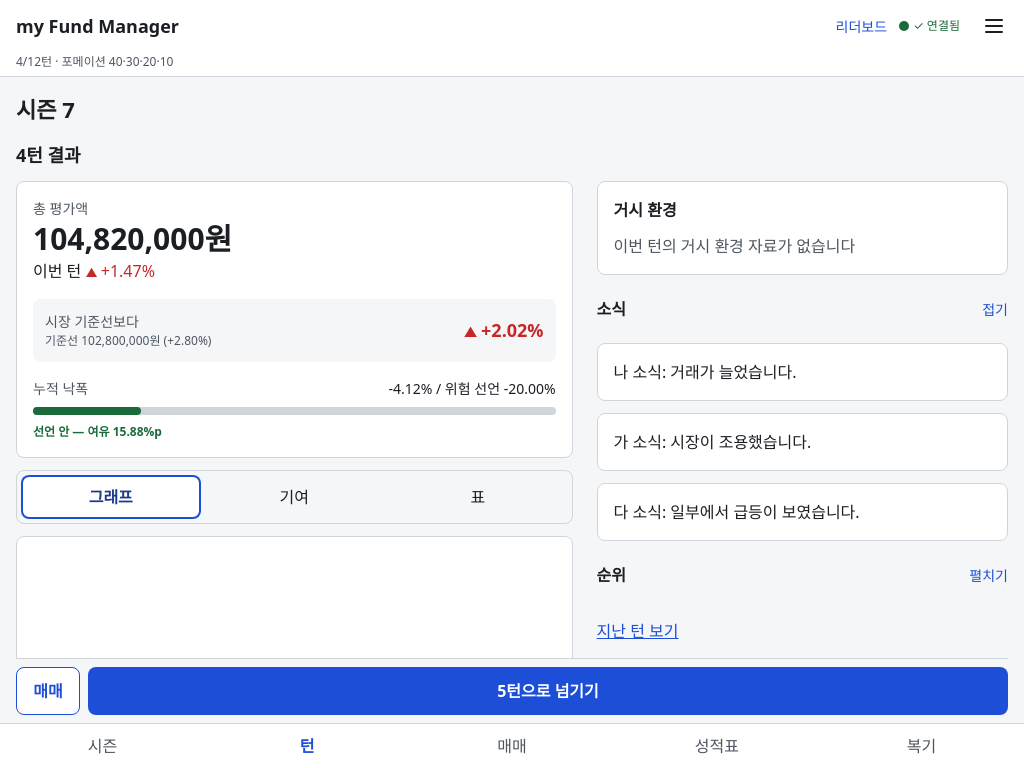
turn screen layout › shows the feed open and the ranking collapsed, and toggles both
Expected: the heading "4턴 결과" is shown, [16, 143, 81, 167]
Click the button "순위 펼치기": (989, 575) [597, 553, 1008, 597]
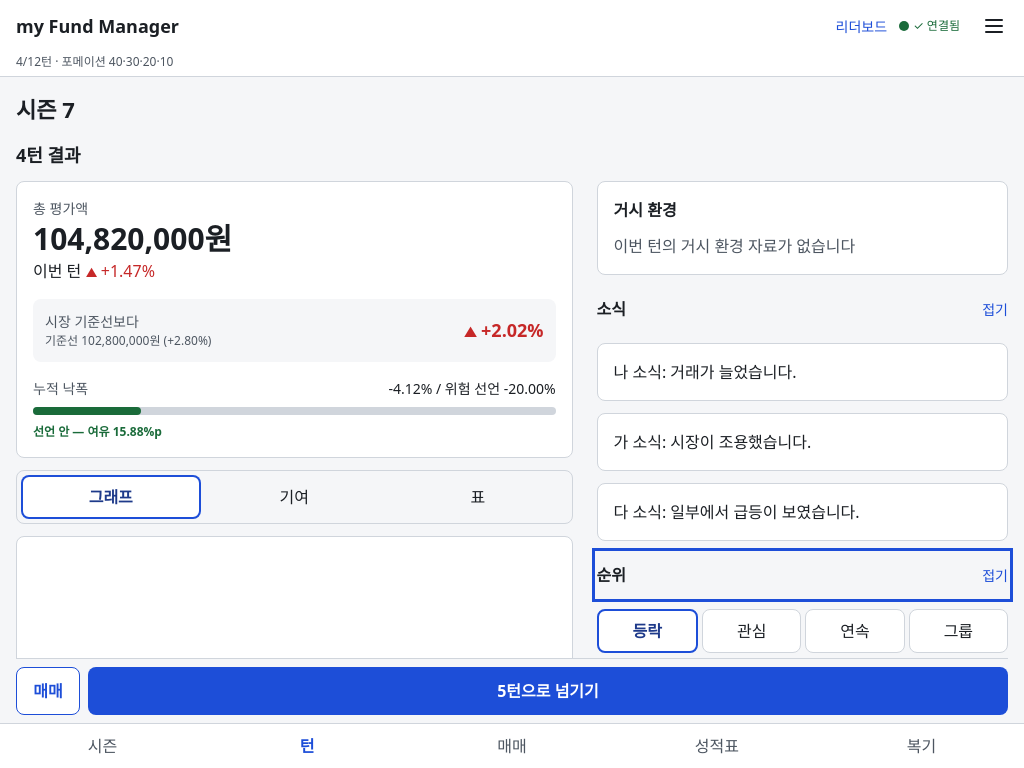
Expected: the button "순위 접기" is expanded
Expected: the element named "순위 종류" is shown, [597, 609, 1008, 653]
Click the button "순위 접기": (611, 575) [597, 553, 1008, 597]
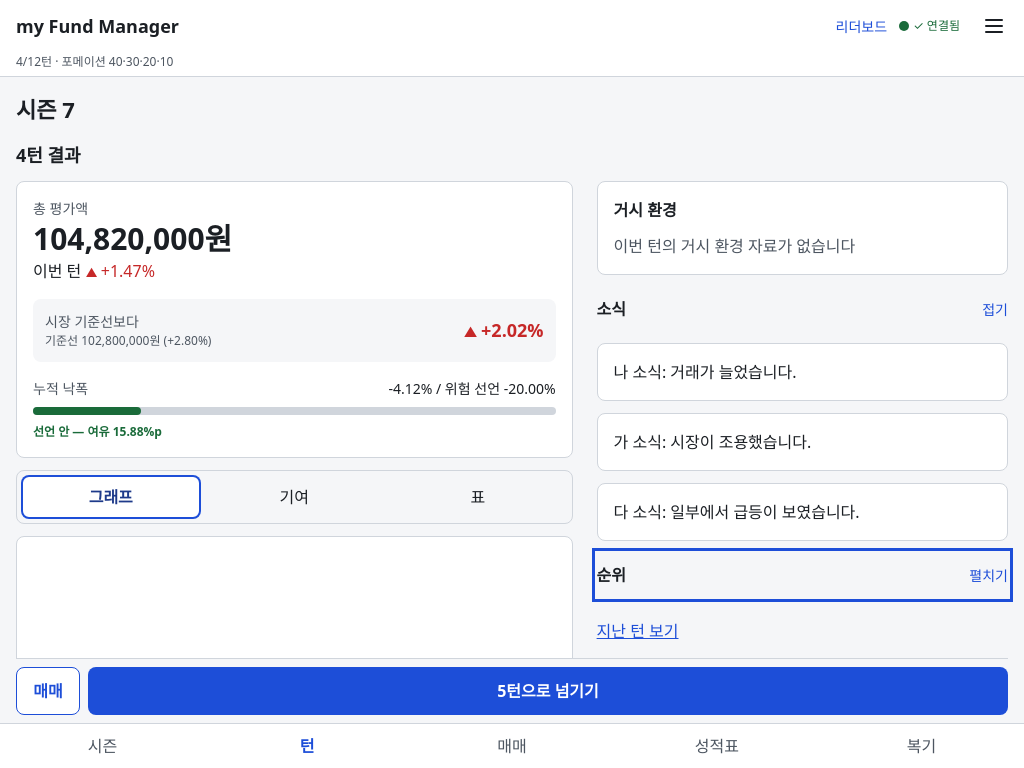
Click the button "소식 접기": (611, 309) [597, 287, 1008, 331]
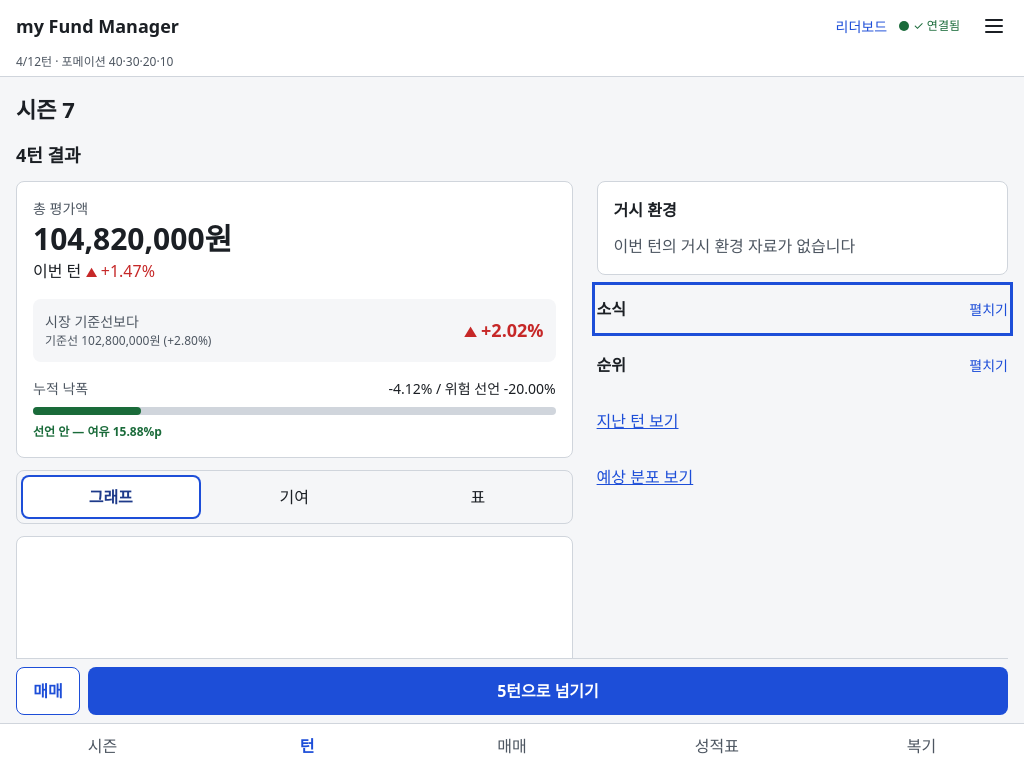
Expected: the button "소식 펼치기" is collapsed, [597, 287, 1008, 331]
